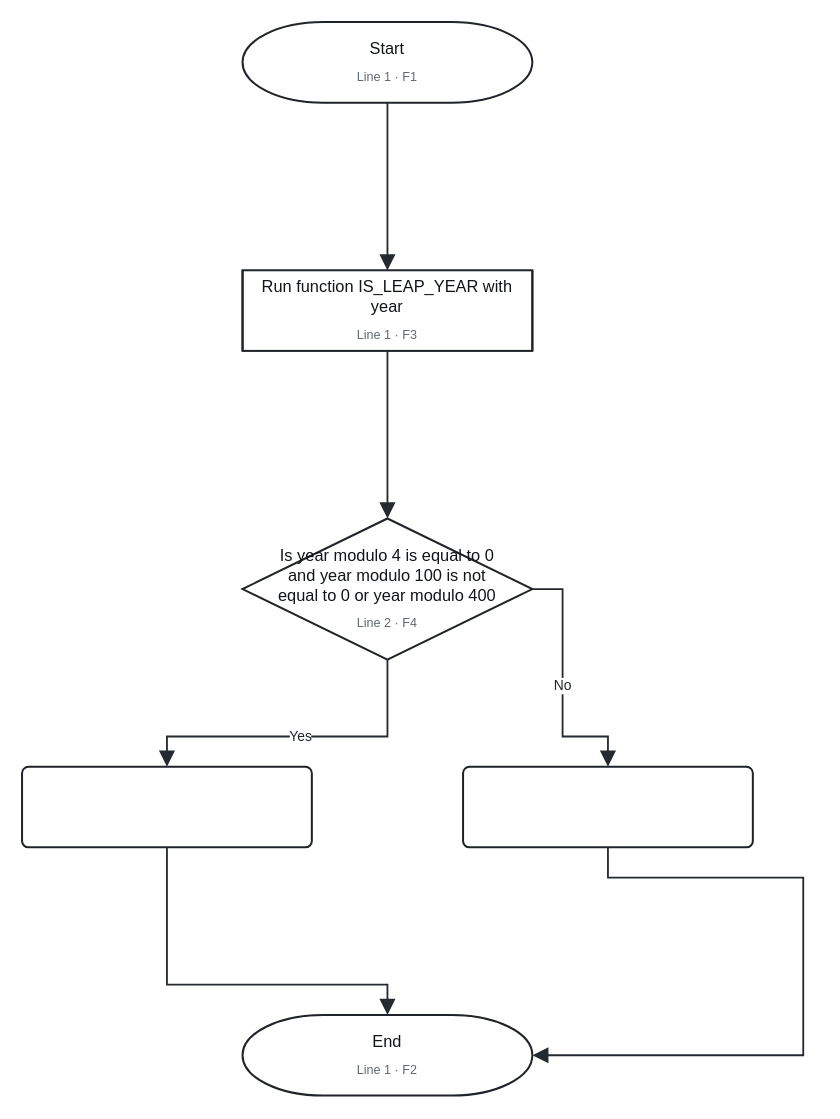
Some shapes in this 840 by 1119 pixel diagram are drawn without their labels. Each missing label, with the box of its shape:
Return false Line 5 · F6: (461, 765, 753, 848)
Return true Line 3 · F5: (20, 765, 312, 848)
